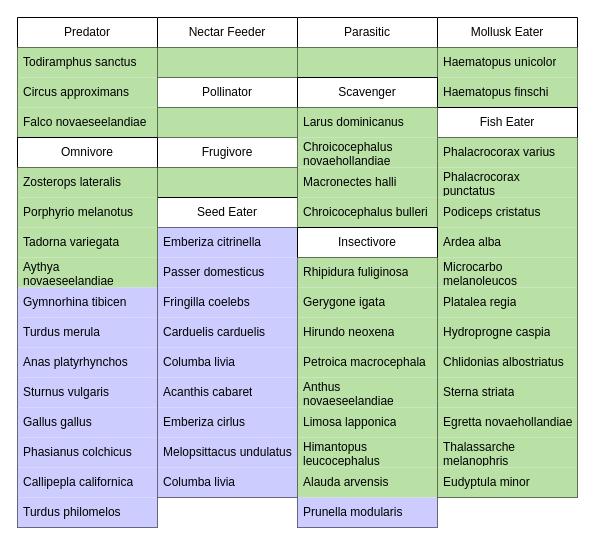
Image size: 595x545. Some labels were removed from this diagram. Each missing label, with the centre of its shape:
"Anthornis melanura" belongs at (x=227, y=122).
"Chrysococcyx lucidus" belongs at (x=367, y=62).
"Hemiphaga novaeseelandiae" belongs at (x=227, y=182).
"Prosthemadera novaeseelandiae" belongs at (x=227, y=62).
